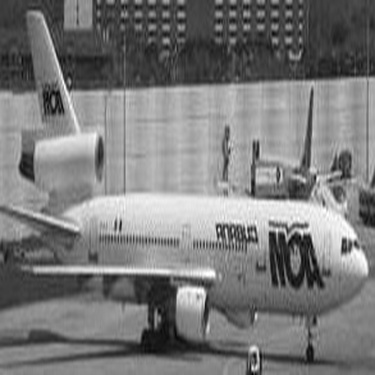airplane: (8, 3, 371, 369)
